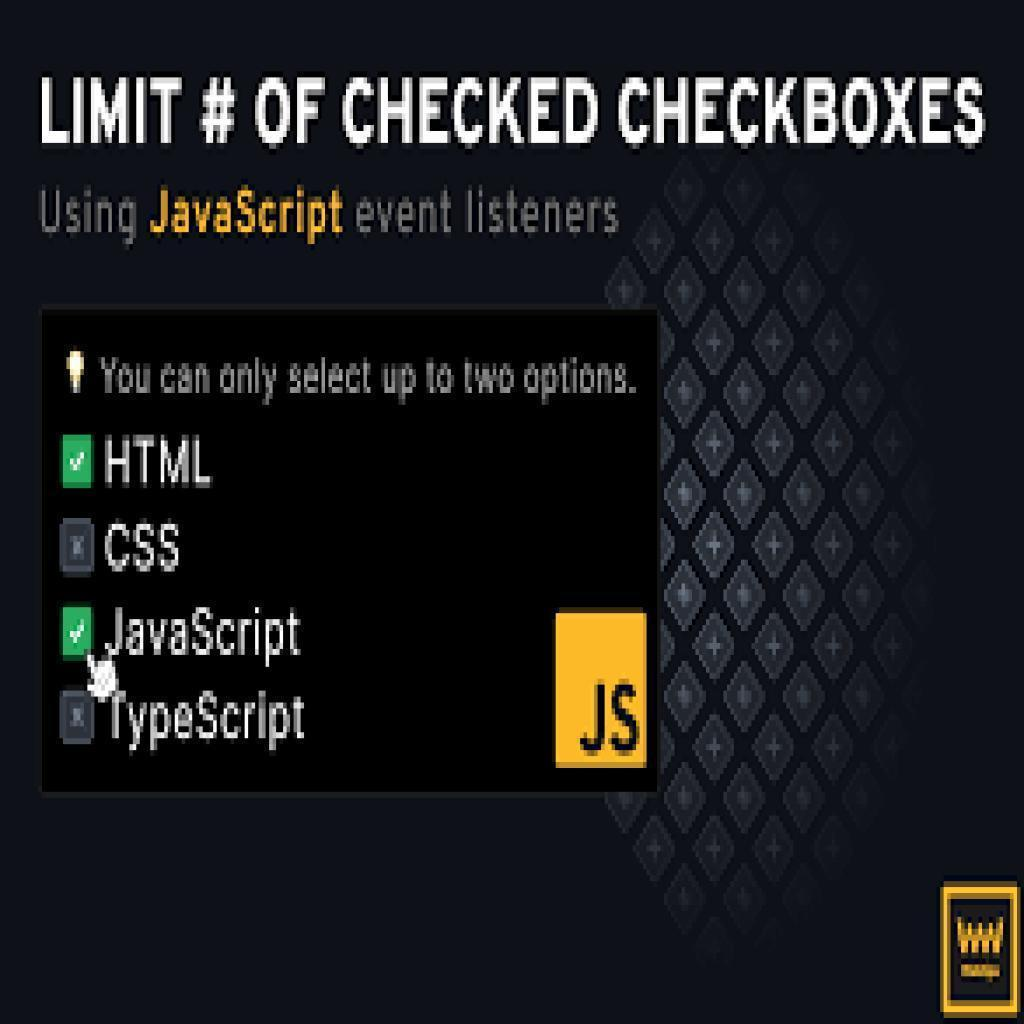checkbox: (58, 517, 96, 574), (59, 607, 96, 661), (59, 694, 95, 747), (62, 434, 92, 487)
label: (103, 689, 314, 754), (100, 605, 305, 671), (104, 425, 215, 492), (101, 517, 187, 576)
